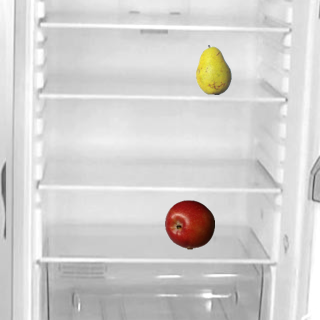Apple Braeburn: (164, 199, 214, 249)
Pear Monster: (188, 44, 238, 94)
